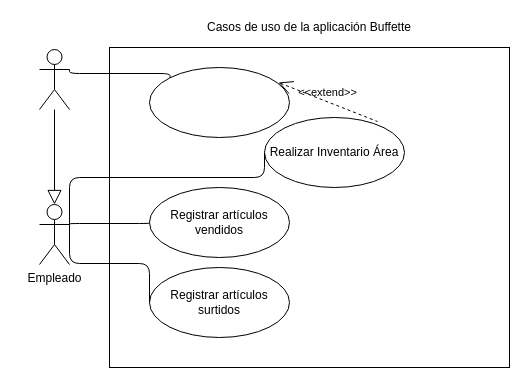
Image size: 527x385. Some labels were removed from this diagram. Here are the shapes that lost their labels. From the top down, the centre of each, then its label:
At point 54,79: "Administrador".
At point 219,102: "Planificar Inventario".
